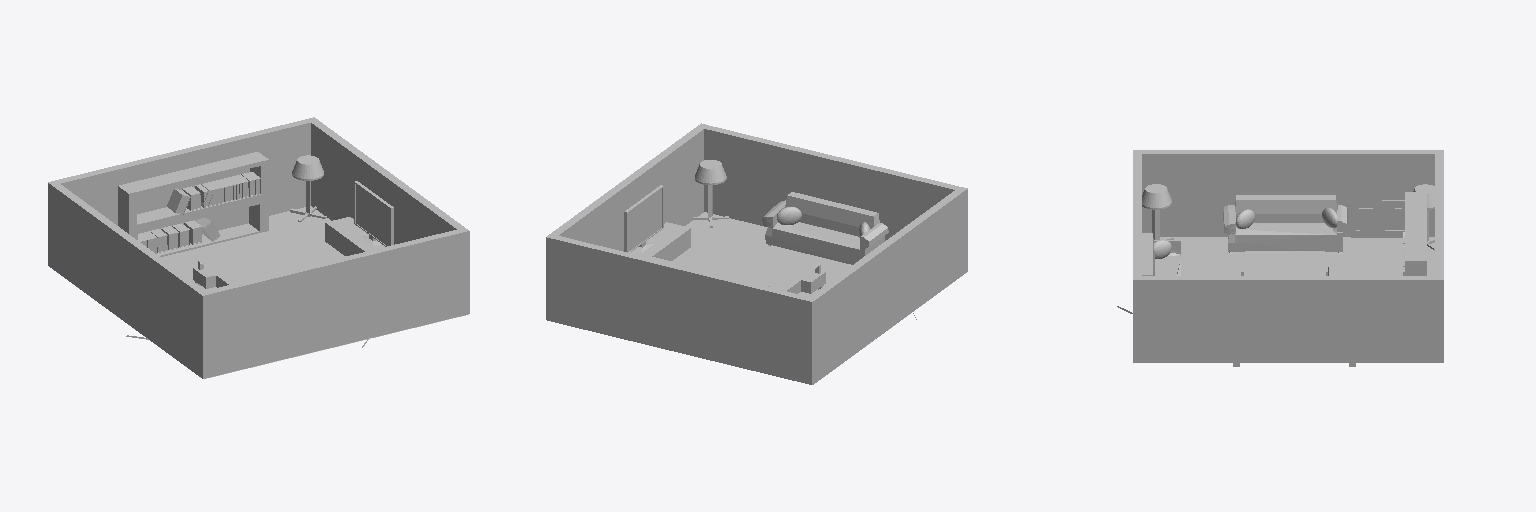
The model's file is Lounge.obj.
3 views of the same model, side by side, from view 1: azimuth 30°, elevation 25°; view 2: azimuth 150°, elevation 25°; view 3: azimuth 270°, elevation 25° (orthographic).
Parts seen in each view (by area): view 1: Plane_Plane.001, Cube.019, Cube.043, Cube.037_Cube.009, Cube.036_Cube.022, Cube.012_Cube.014; view 2: Plane_Plane.001, Cube.035_Cube.021, Cube.043, Cube.037_Cube.009, Cube.036_Cube.022, Cube.034_Cube.020; view 3: Plane_Plane.001, Cube.010_Cube.013, Cube.008, Cube.043, Cube.019, Cube.035_Cube.021, Cube.009_Cube.018.
Part boxes in pixels (left/top/right/bottom): Plane_Plane.001: left=48, top=117, right=469, bottom=378; Cube.019: left=118, top=152, right=268, bottom=256; Cube.043: left=193, top=244, right=296, bottom=288; Cube.037_Cube.009: left=354, top=181, right=393, bottom=246; Cube.036_Cube.022: left=325, top=217, right=384, bottom=255; Cube.012_Cube.014: left=290, top=155, right=326, bottom=221; Plane_Plane.001: left=546, top=123, right=967, bottom=384; Cube.035_Cube.021: left=762, top=192, right=888, bottom=264; Cube.043: left=721, top=248, right=825, bottom=293; Cube.037_Cube.009: left=624, top=185, right=663, bottom=252; Cube.036_Cube.022: left=632, top=222, right=690, bottom=260; Cube.034_Cube.020: left=692, top=160, right=728, bottom=227; Plane_Plane.001: left=1133, top=150, right=1443, bottom=362; Cube.010_Cube.013: left=1223, top=195, right=1347, bottom=253; Cube.008: left=1351, top=158, right=1410, bottom=237; Cube.043: left=1241, top=251, right=1328, bottom=275; Cube.019: left=1405, top=192, right=1426, bottom=275; Cube.035_Cube.021: left=1117, top=233, right=1180, bottom=313; Cube.009_Cube.018: left=1142, top=184, right=1173, bottom=239.
Size of the model in its own units: 29.38 by 8.92 by 29.71.